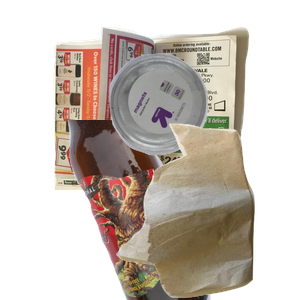glass: (65, 120, 300, 300)
paper: (51, 24, 291, 204)
plastic: (107, 51, 300, 199)
trash: (114, 121, 300, 300)
